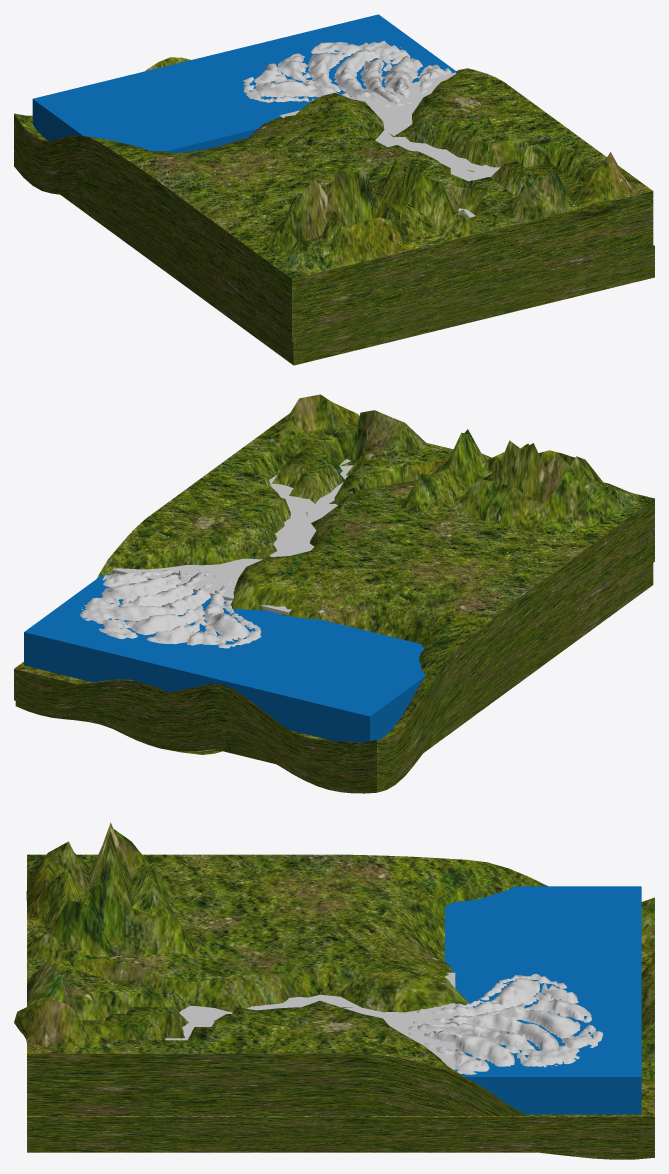
Rendered from 扇形三角洲.gltf.
3 renders of one model, top to bottom at view 1: azimuth 30°, elevation 25°; view 2: azimuth 150°, elevation 25°; view 3: azimuth 270°, elevation 25°, orthographic. The views are drawn at different scales.
Parts seen in each view (by area): view 1: node_Box002_-1190, node_Box005_-1194, node_Box003_-1192, node_Plane005_-1200, node_Box006_-1196; view 2: node_Box002_-1190, node_Box005_-1194, node_Plane005_-1200, node_Box003_-1192, node_Box006_-1196; view 3: node_Box002_-1190, node_Box005_-1194, node_Box003_-1192, node_Plane005_-1200, node_Box006_-1196.
Boxes of the visible parts, x1,y1,x2,y2 form: node_Box002_-1190: (14, 57, 653, 341); node_Box005_-1194: (32, 14, 456, 153); node_Box003_-1192: (60, 194, 654, 365); node_Plane005_-1200: (243, 40, 451, 108); node_Box006_-1196: (279, 72, 500, 217); node_Box002_-1190: (15, 394, 654, 793); node_Box005_-1194: (24, 574, 425, 742); node_Plane005_-1200: (80, 569, 261, 648); node_Box003_-1192: (14, 563, 653, 763); node_Box006_-1196: (112, 459, 353, 615); node_Box002_-1190: (14, 822, 654, 1159); node_Box005_-1194: (445, 886, 641, 1114); node_Box003_-1192: (27, 937, 654, 1152); node_Plane005_-1200: (408, 974, 602, 1074); node_Box006_-1196: (103, 972, 455, 1070).
Bounding box in the file's own units: 1.62 × 0.7785 × 2.19.
